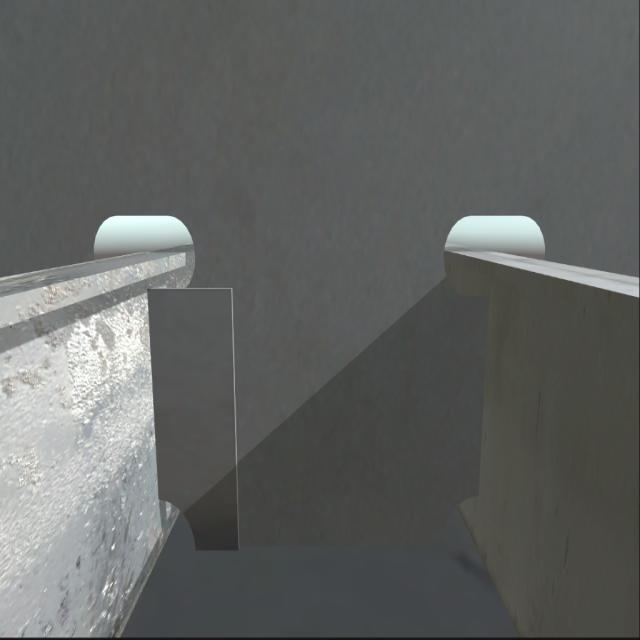fillet_hole: (160, 494, 198, 558), (438, 504, 475, 550)
fillet_yong_jeop_jang: (189, 533, 444, 562)
longi_yong_jeop_jang: (468, 290, 493, 507), (146, 278, 165, 502)
plate_CP01: (155, 293, 231, 554)
